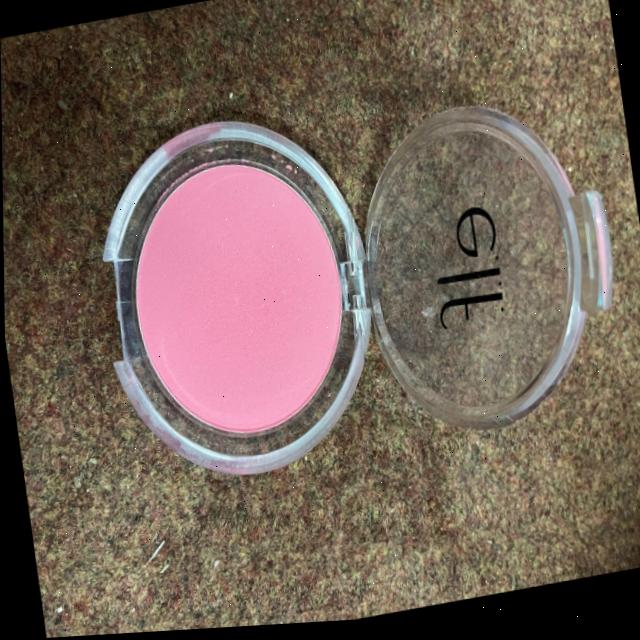blush: (77, 91, 434, 502)
